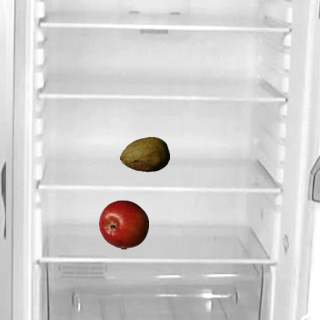Apple Braeburn: (98, 199, 148, 249)
Papaya: (119, 129, 169, 179)
